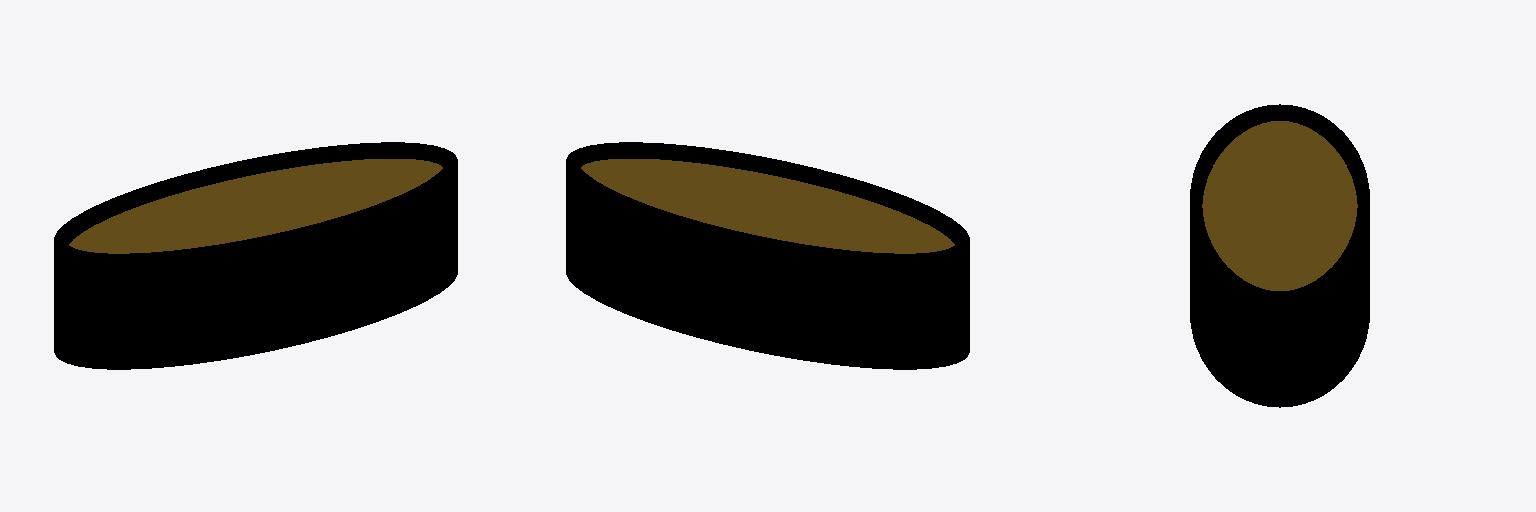
File: serUSV.obj
3 renders of one model, left to right at view 1: azimuth 30°, elevation 25°; view 2: azimuth 150°, elevation 25°; view 3: azimuth 270°, elevation 25°, orthographic.
Visible parts, largest first — view 1: Mesh.005, Mesh.005_1; view 2: Mesh.005, Mesh.005_1; view 3: Mesh.005, Mesh.005_1.
Boxes of the visible parts, <box> form: Mesh.005: <box>54,142,457,369</box>; Mesh.005_1: <box>69,159,442,253</box>; Mesh.005: <box>566,142,969,369</box>; Mesh.005_1: <box>581,159,954,253</box>; Mesh.005: <box>1190,104,1369,407</box>; Mesh.005_1: <box>1202,121,1357,290</box>.
Size of the model in its own units: 0.0221 by 0.0059 by 0.0088.